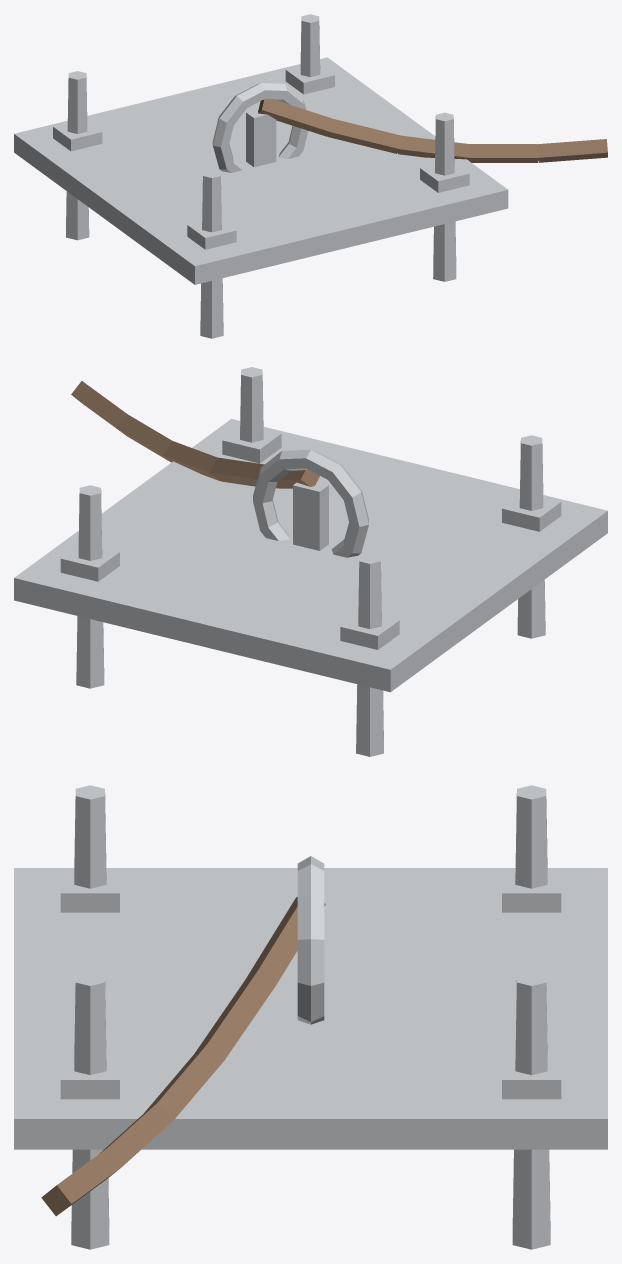
The model's file is hot-air-balloon-festival-balloon-tether-anchor-point-7952c8bf__38508.glb.
3 renders of one model, top to bottom at view 1: azimuth 30°, elevation 25°; view 2: azimuth 150°, elevation 25°; view 3: azimuth 270°, elevation 25°, orthographic. The views are drawn at different scales.
Visible parts, largest first — view 1: balloon-tether-anchor-point-steel, balloon-tether-anchor-point-leather; view 2: balloon-tether-anchor-point-steel, balloon-tether-anchor-point-leather; view 3: balloon-tether-anchor-point-steel, balloon-tether-anchor-point-leather.
Part boxes in pixels (x1,y1,x2,y2): balloon-tether-anchor-point-steel: (14,14,508,338); balloon-tether-anchor-point-leather: (258,99,607,162); balloon-tether-anchor-point-steel: (14,367,607,756); balloon-tether-anchor-point-leather: (71,381,319,488); balloon-tether-anchor-point-steel: (14,785,607,1249); balloon-tether-anchor-point-leather: (41,897,325,1216).
Bounding box in the file's own units: 0.9589 × 0.368 × 0.7.
